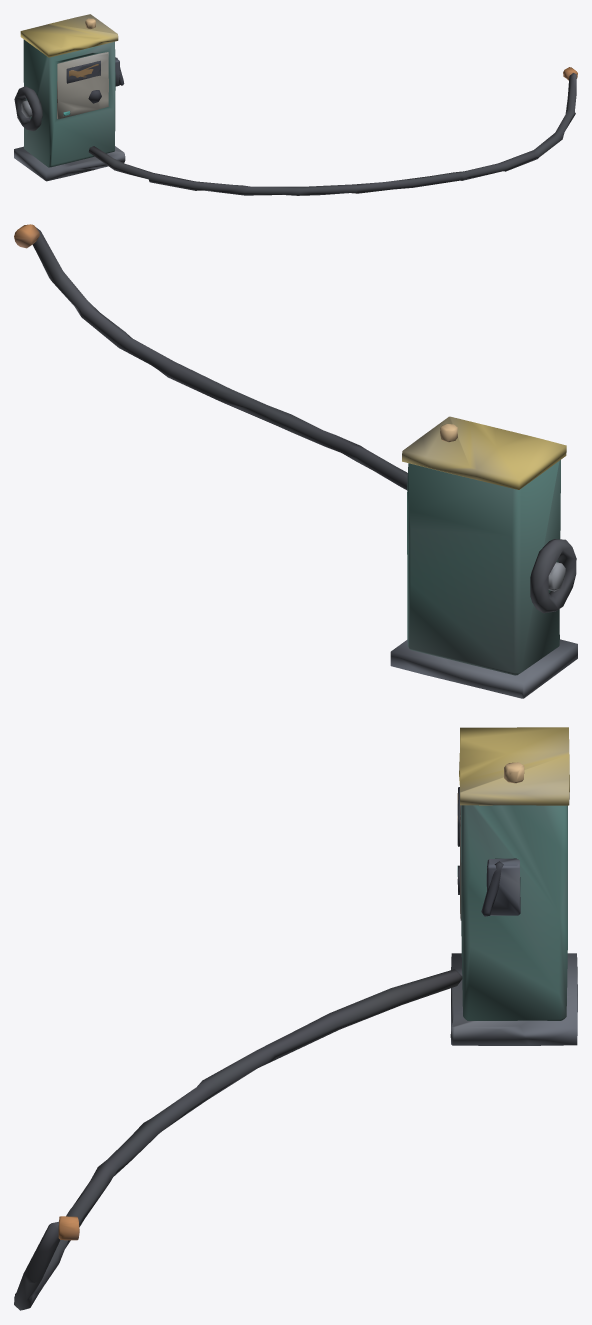
The model's file is bay_pump.glb.
3 views of the same model, one above another, from view 1: azimuth 30°, elevation 25°; view 2: azimuth 150°, elevation 25°; view 3: azimuth 270°, elevation 25° (orthographic). The views are drawn at different scales.
Parts seen in each view (by area): view 1: pump; view 2: pump; view 3: pump.
Part boxes in pixels (left/top/right/bottom): pump: left=14, top=14, right=577, bottom=195; pump: left=14, top=224, right=577, bottom=698; pump: left=14, top=727, right=577, bottom=1310.
Bounding box in the file's own units: 4.59 × 1.36 × 2.63.
